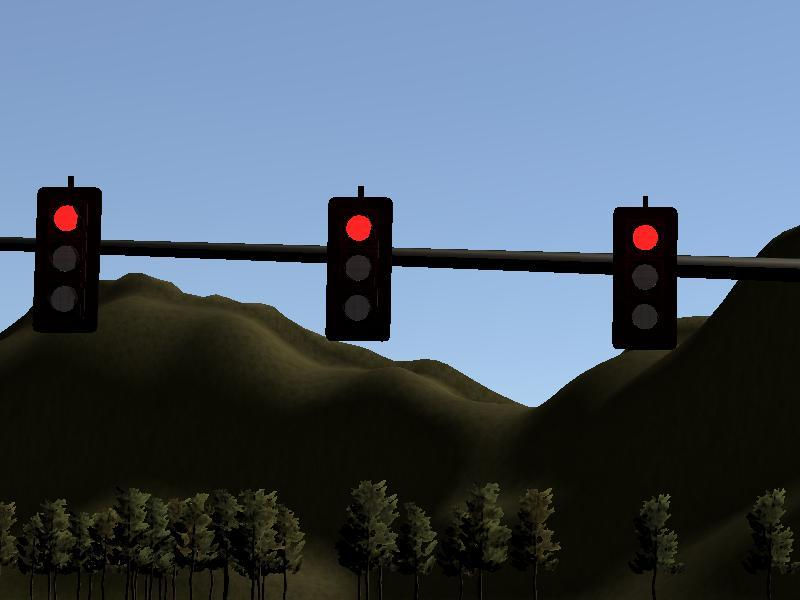Red: (33, 187, 101, 330), (611, 207, 679, 350), (325, 197, 393, 340)
